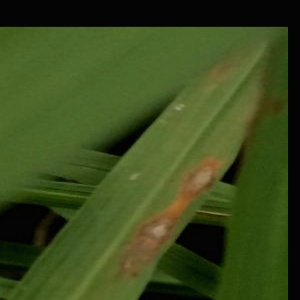Brown_Spot: (107, 204, 191, 278), (178, 144, 226, 199)
